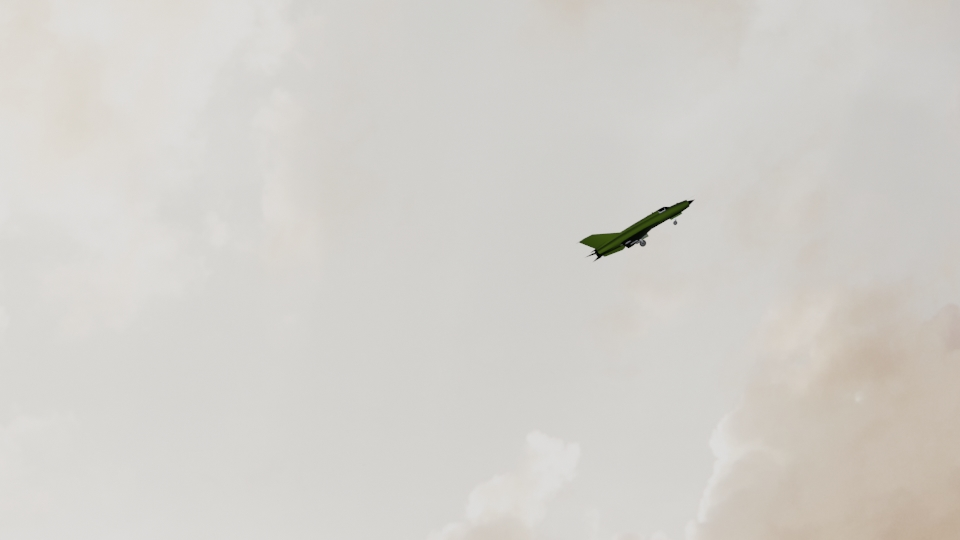plane: (575, 196, 693, 262)
